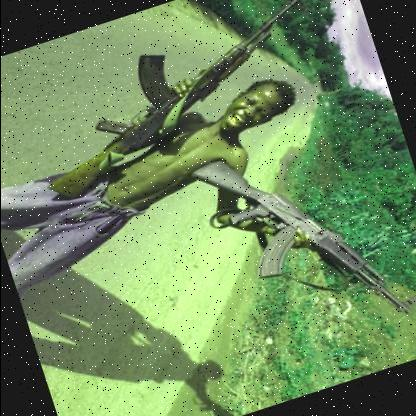rifle: (19, 0, 352, 204), (177, 112, 416, 364)
